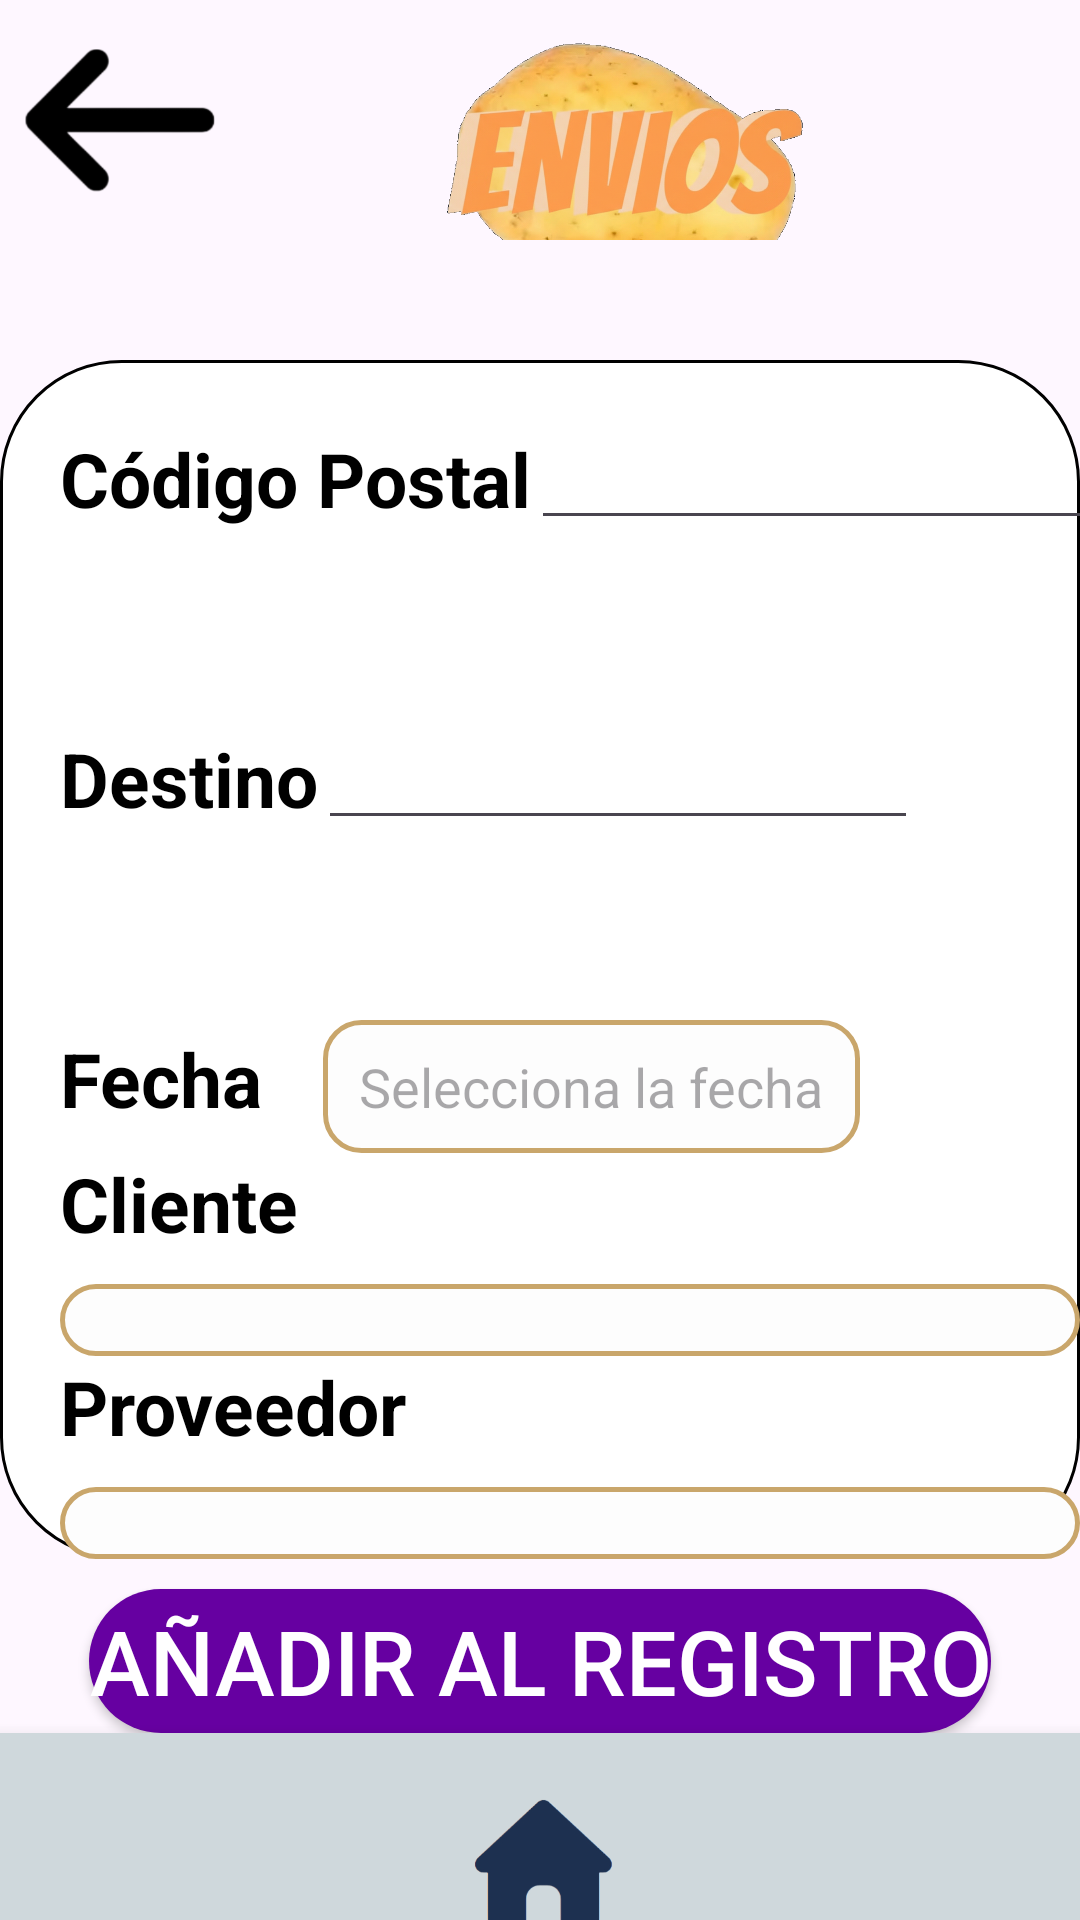

Icon bounding boxes for this 1080x1920 phone screenshot, format rect(x1, y1, x2, y2):
flecha: rect(25, 49, 215, 192)
